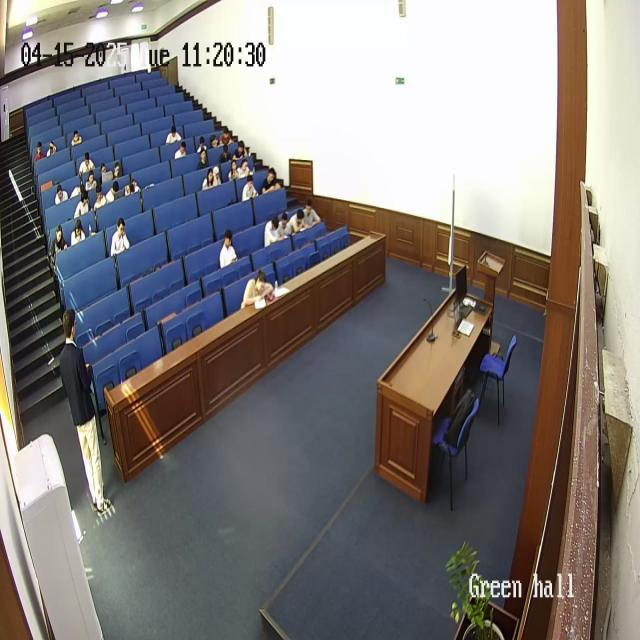person: (60, 307, 114, 509), (240, 268, 274, 310), (110, 217, 130, 257), (219, 230, 238, 268), (263, 214, 283, 247), (53, 223, 69, 258), (302, 200, 322, 228), (262, 166, 282, 194), (73, 191, 91, 221), (201, 165, 221, 191), (93, 180, 109, 212), (288, 207, 306, 235), (70, 216, 86, 247), (242, 171, 258, 201), (277, 211, 293, 240), (106, 178, 122, 204), (125, 176, 142, 200), (238, 152, 254, 177), (217, 124, 234, 146), (78, 152, 94, 175), (166, 123, 182, 145), (232, 135, 248, 156), (71, 174, 84, 199), (55, 184, 69, 205), (228, 158, 240, 182), (197, 147, 210, 169), (97, 159, 110, 180), (34, 139, 46, 161), (174, 139, 187, 159), (196, 136, 208, 157), (70, 129, 82, 147), (46, 140, 58, 158), (218, 145, 229, 163), (110, 162, 122, 178), (207, 134, 218, 151)
